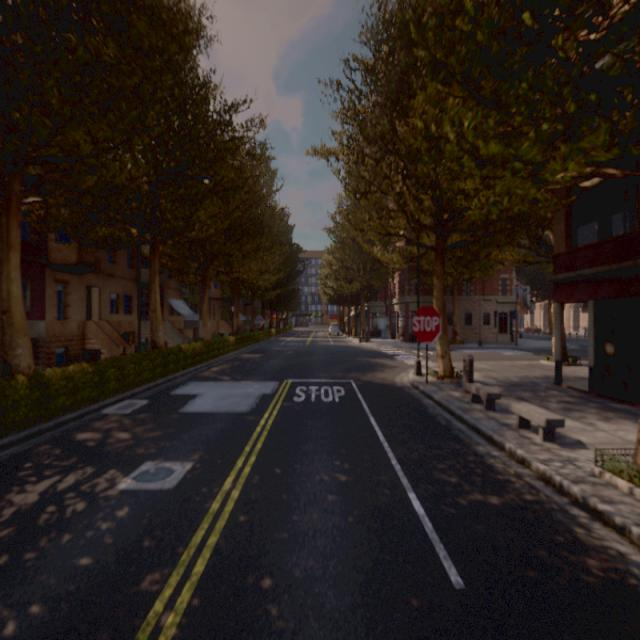stop sign: (410, 302, 442, 344), (411, 314, 440, 332)
